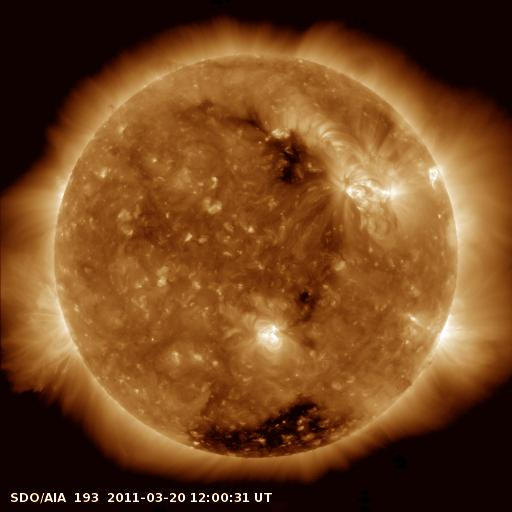coronal_hole: (187, 392, 350, 466), (263, 121, 318, 187)
